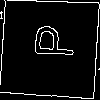P: (24, 23, 76, 59)
